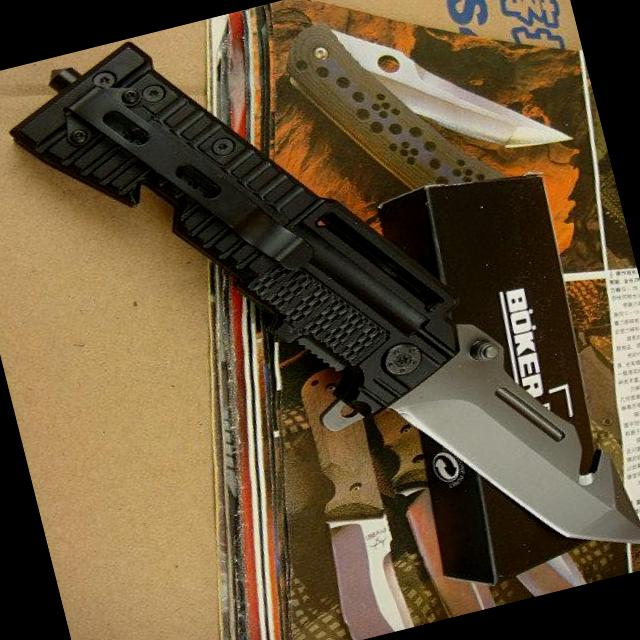knife: (361, 294, 639, 610)
